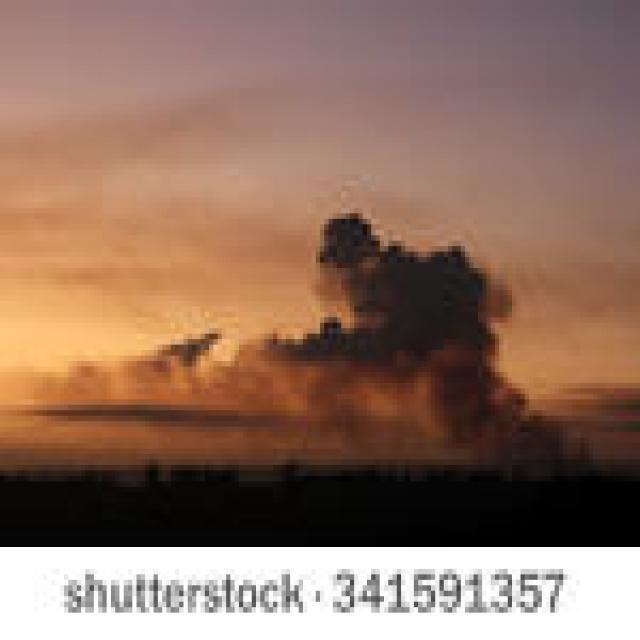Smoke: (0, 219, 607, 455)
